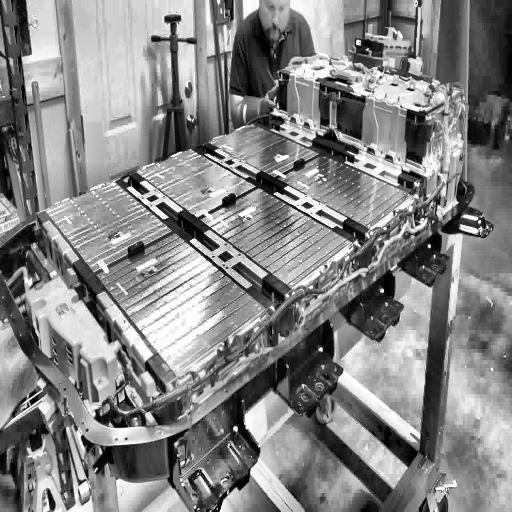battery_module: (97, 231, 266, 381), (200, 187, 353, 291), (44, 180, 173, 273), (278, 154, 413, 232), (135, 147, 258, 217), (208, 123, 319, 178)
high_volt_cable: (189, 85, 462, 411)
low_volt_cable: (85, 75, 470, 421)
